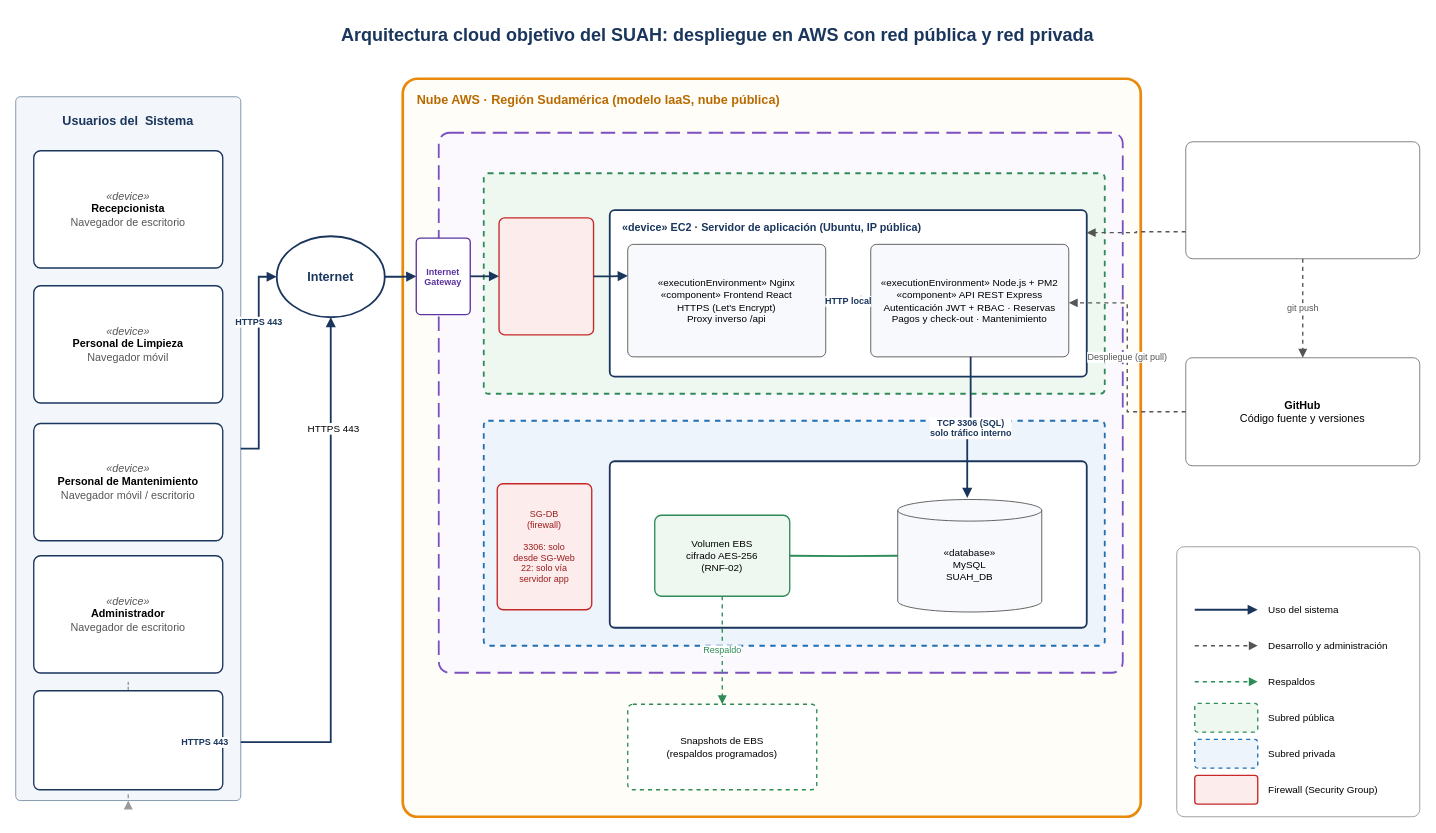
The diagram is 1436 pixels wide and 833 high, and some of its shapes have lost their labels. Here are the shapes that lost their labels. From the top down, the box of each, then its label:
(1185, 141, 1420, 259): Equipo de desarrollo Administración por SSH 22 (solo desde la IP del equipo)
(498, 217, 594, 335): SG-Web (firewall) 443 / 80: abiertos 22: solo IP del equipo
(482, 172, 1105, 394): Subred pública 10.0.1.0/24 (acceso desde Internet solo por HTTPS)
(437, 131, 1123, 673): VPC (red virtual privada) 10.0.0.0/16
(482, 419, 1105, 646): Subred privada 10.0.2.0/24 (sin acceso desde Internet)
(608, 460, 1087, 628): «device» EC2 · Servidor de datos (Ubuntu, solo IP privada)
(1176, 546, 1420, 817): Simbología
(33, 690, 223, 790): «device» Huesped Navegador de escritorio/movil
